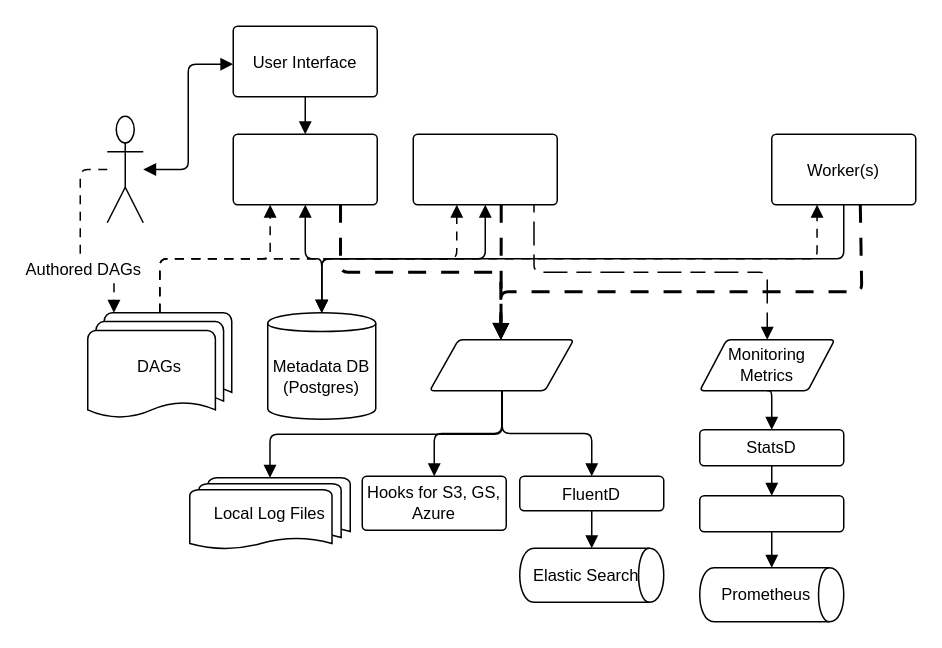
This 942x648 diagram has some shape labels left out. Here are the shapes that lost their labels. From the top down, the box of each, then its label:
(106, 115, 143, 223): Data Engineer
(232, 133, 377, 205): Web Server
(412, 133, 557, 205): Scheduler
(428, 338, 574, 391): Logging
(698, 494, 844, 532): Statsd Exporter
